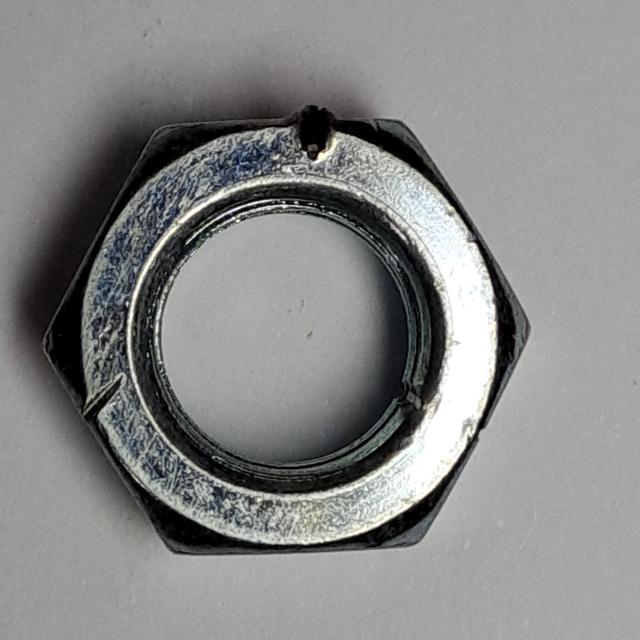Scratches: (25, 87, 542, 578)
